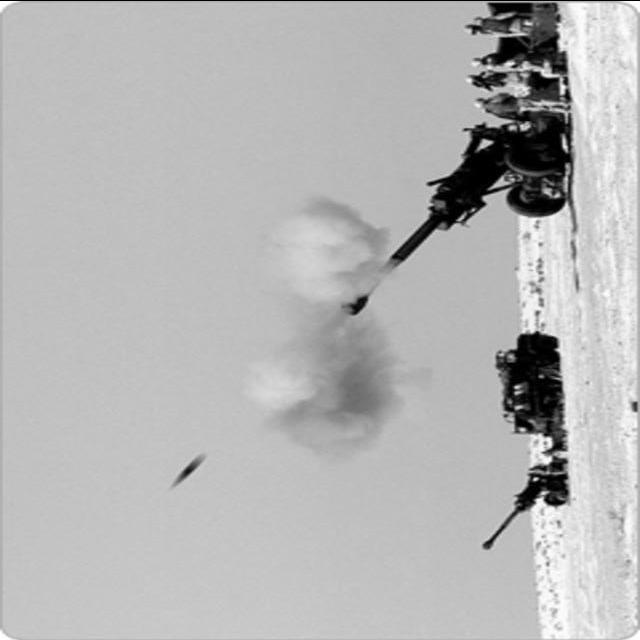missile: (165, 453, 205, 491)
